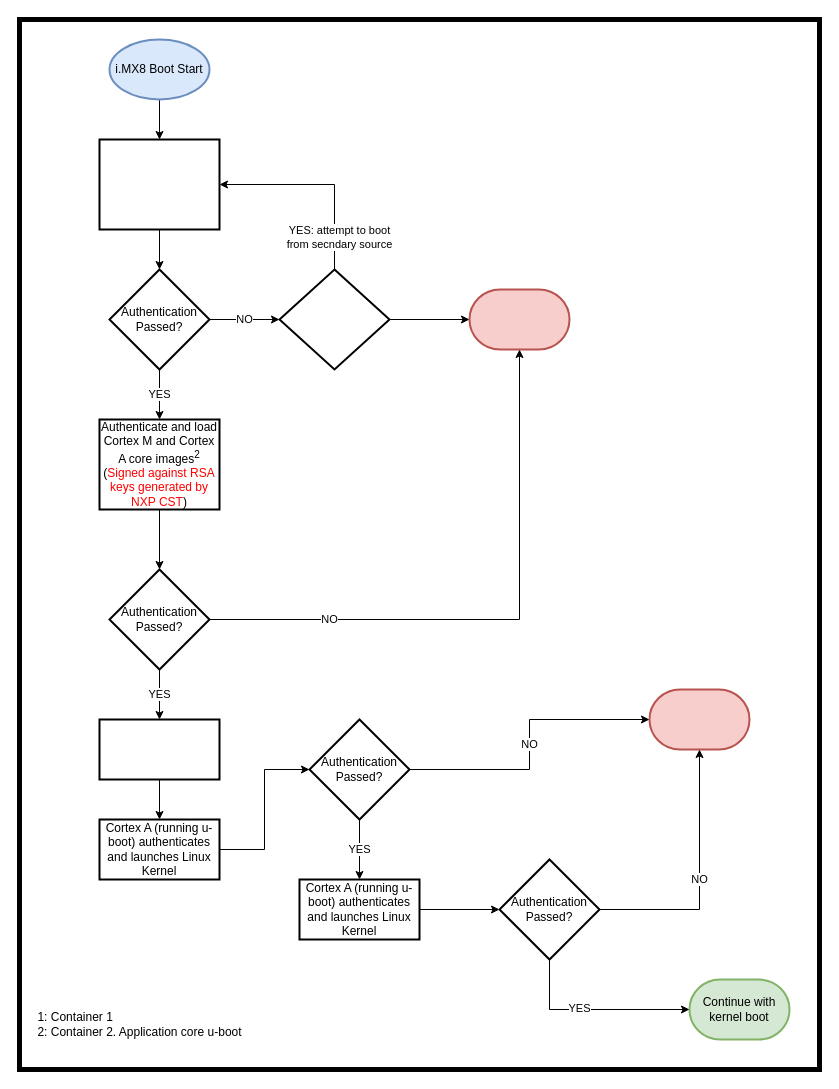
Image size: 839x1089. Some labels were removed from this diagram. Each missing label, with the centre of its shape:
Authenticate and load SCU and SECO firmware 1 ( Signed with NXP Key ): [159,184]
Booting from Primary Source?: [334,319]
FAIL: [699,719]
FAIL: recovery mode: [519,319]
Start Cortex M4 and Cortex A cores: [159,749]
